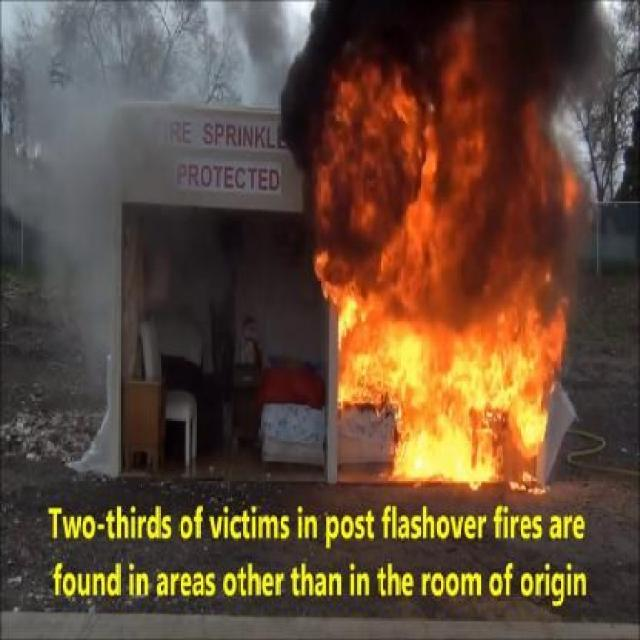fire: (308, 272, 580, 494)
smoke: (22, 24, 226, 442), (265, 9, 604, 236)
